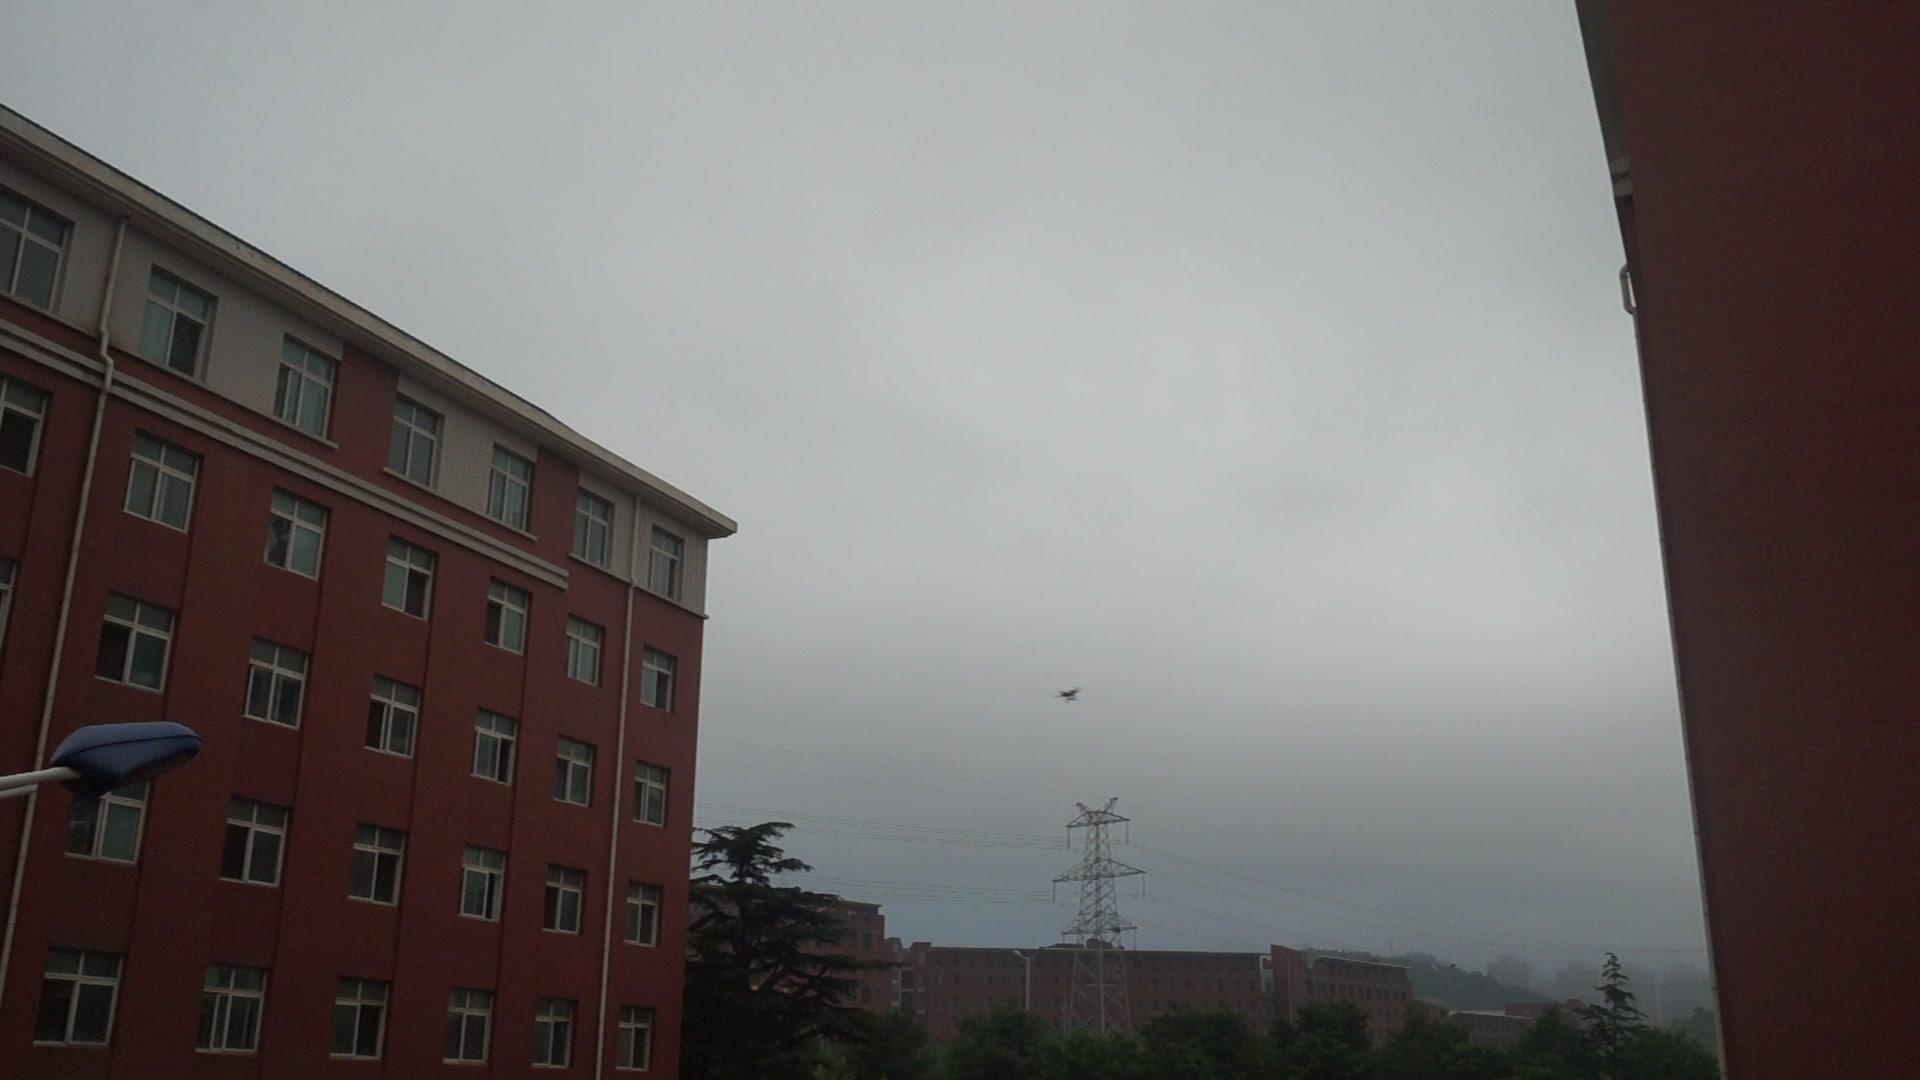UAV: (1058, 688, 1083, 703)
